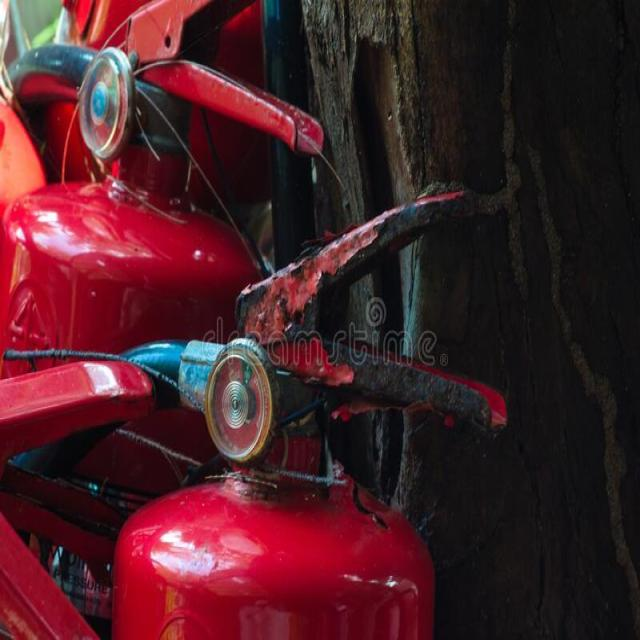fire_extinguisher: (5, 181, 526, 639), (0, 0, 330, 639)
